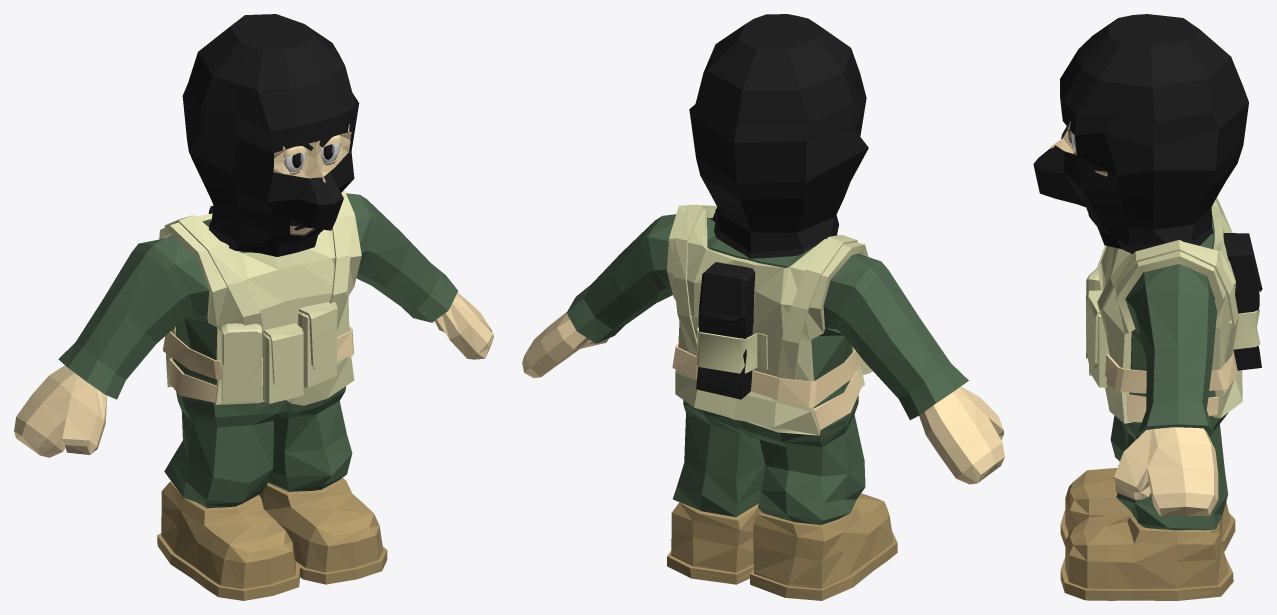
Rendered from iraq_soldier.FBX.
The picture shows the model from 3 angles, left to right: view 1: azimuth 30°, elevation 25°; view 2: azimuth 150°, elevation 25°; view 3: azimuth 270°, elevation 25°; orthographic projection.
Visible parts, largest first — view 1: Iraq_Soldier_Body, Iraq_Soldier_Mask, Iraq_Soldier_Vest, Iraq_Soldier_Vest_Straps, Iraq_Soldier_Vest_Pouch_1, Iraq_Soldier_Vest_Pouch_2, Iraq_Soldier_Vest_Pouch_3, Iraq_Soldier_Head, Iraq_Soldier_Vest_Belt, Iraq_Soldier_Vest_Lowwer_Straps; view 2: Iraq_Soldier_Body, Iraq_Soldier_Mask, Iraq_Soldier_Vest, Iraq_Soldier_Vest_Bag, Iraq_Soldier_Vest_Straps, Iraq_Soldier_Vest_Belt, Iraq_Soldier_Vest_Bag_Strap, Iraq_Soldier_Vest_Lowwer_Straps; view 3: Iraq_Soldier_Body, Iraq_Soldier_Mask, Iraq_Soldier_Vest, Iraq_Soldier_Vest_Straps, Iraq_Soldier_Vest_Bag, Iraq_Soldier_Vest_Belt, Iraq_Soldier_Vest_Pouch_3, Iraq_Soldier_Vest_Bag_Strap, Iraq_Soldier_Vest_Lowwer_Straps, Iraq_Soldier_Head.
Boxes of the visible parts, left/top/right/bottom form: Iraq_Soldier_Body: left=14, top=193, right=493, bottom=600; Iraq_Soldier_Mask: left=182, top=14, right=359, bottom=256; Iraq_Soldier_Vest: left=159, top=190, right=361, bottom=405; Iraq_Soldier_Vest_Straps: left=164, top=203, right=350, bottom=357; Iraq_Soldier_Vest_Pouch_1: left=221, top=323, right=261, bottom=402; Iraq_Soldier_Vest_Pouch_2: left=263, top=323, right=303, bottom=403; Iraq_Soldier_Vest_Pouch_3: left=298, top=302, right=337, bottom=387; Iraq_Soldier_Head: left=273, top=124, right=351, bottom=234; Iraq_Soldier_Vest_Belt: left=163, top=326, right=353, bottom=379; Iraq_Soldier_Vest_Lowwer_Straps: left=169, top=358, right=216, bottom=402; Iraq_Soldier_Body: left=522, top=214, right=1004, bottom=600; Iraq_Soldier_Mask: left=689, top=14, right=868, bottom=260; Iraq_Soldier_Vest: left=667, top=205, right=868, bottom=435; Iraq_Soldier_Vest_Bag: left=696, top=262, right=755, bottom=399; Iraq_Soldier_Vest_Straps: left=673, top=204, right=857, bottom=379; Iraq_Soldier_Vest_Belt: left=672, top=342, right=862, bottom=407; Iraq_Soldier_Vest_Bag_Strap: left=691, top=316, right=767, bottom=373; Iraq_Soldier_Vest_Lowwer_Straps: left=813, top=371, right=862, bottom=430; Iraq_Soldier_Body: left=1060, top=215, right=1235, bottom=600; Iraq_Soldier_Mask: left=1033, top=14, right=1248, bottom=254; Iraq_Soldier_Vest: left=1101, top=200, right=1242, bottom=423; Iraq_Soldier_Vest_Straps: left=1097, top=197, right=1238, bottom=363; Iraq_Soldier_Vest_Bag: left=1223, top=233, right=1262, bottom=370; Iraq_Soldier_Vest_Belt: left=1105, top=350, right=1236, bottom=393; Iraq_Soldier_Vest_Pouch_3: left=1086, top=295, right=1109, bottom=387; Iraq_Soldier_Vest_Bag_Strap: left=1224, top=308, right=1260, bottom=358; Iraq_Soldier_Vest_Lowwer_Straps: left=1126, top=394, right=1218, bottom=422; Iraq_Soldier_Head: left=1050, top=121, right=1107, bottom=176.
Size of the model in its own units: 49.18 by 53.26 by 20.9.
